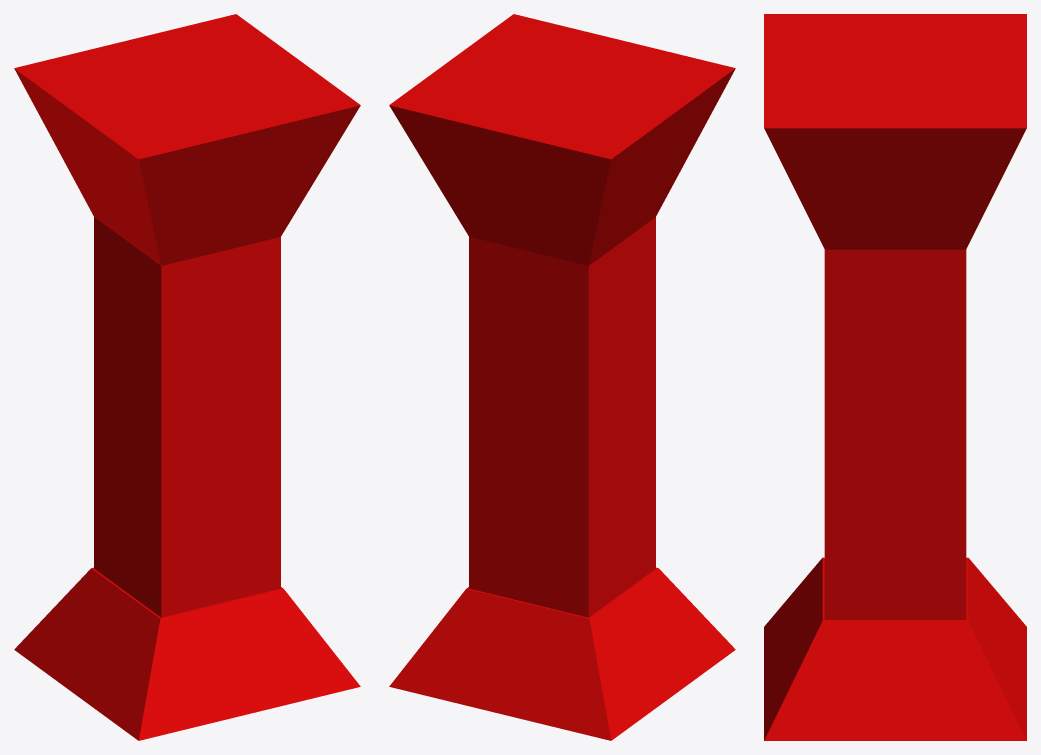
File: VaultCollumC2mCollider.fbx
3 renders of one model, left to right at view 1: azimuth 30°, elevation 25°; view 2: azimuth 150°, elevation 25°; view 3: azimuth 270°, elevation 25°, orthographic. The views are drawn at different scales.
Visible parts, largest first — view 1: VaultCollumC2mCollision; view 2: VaultCollumC2mCollision; view 3: VaultCollumC2mCollision.
Boxes of the visible parts, x1=… form: VaultCollumC2mCollision: x1=14, y1=14, x2=360, y2=740; VaultCollumC2mCollision: x1=389, y1=14, x2=735, y2=740; VaultCollumC2mCollision: x1=764, y1=14, x2=1026, y2=740.
Bounding box in the file's own units: 161 × 404 × 157.
